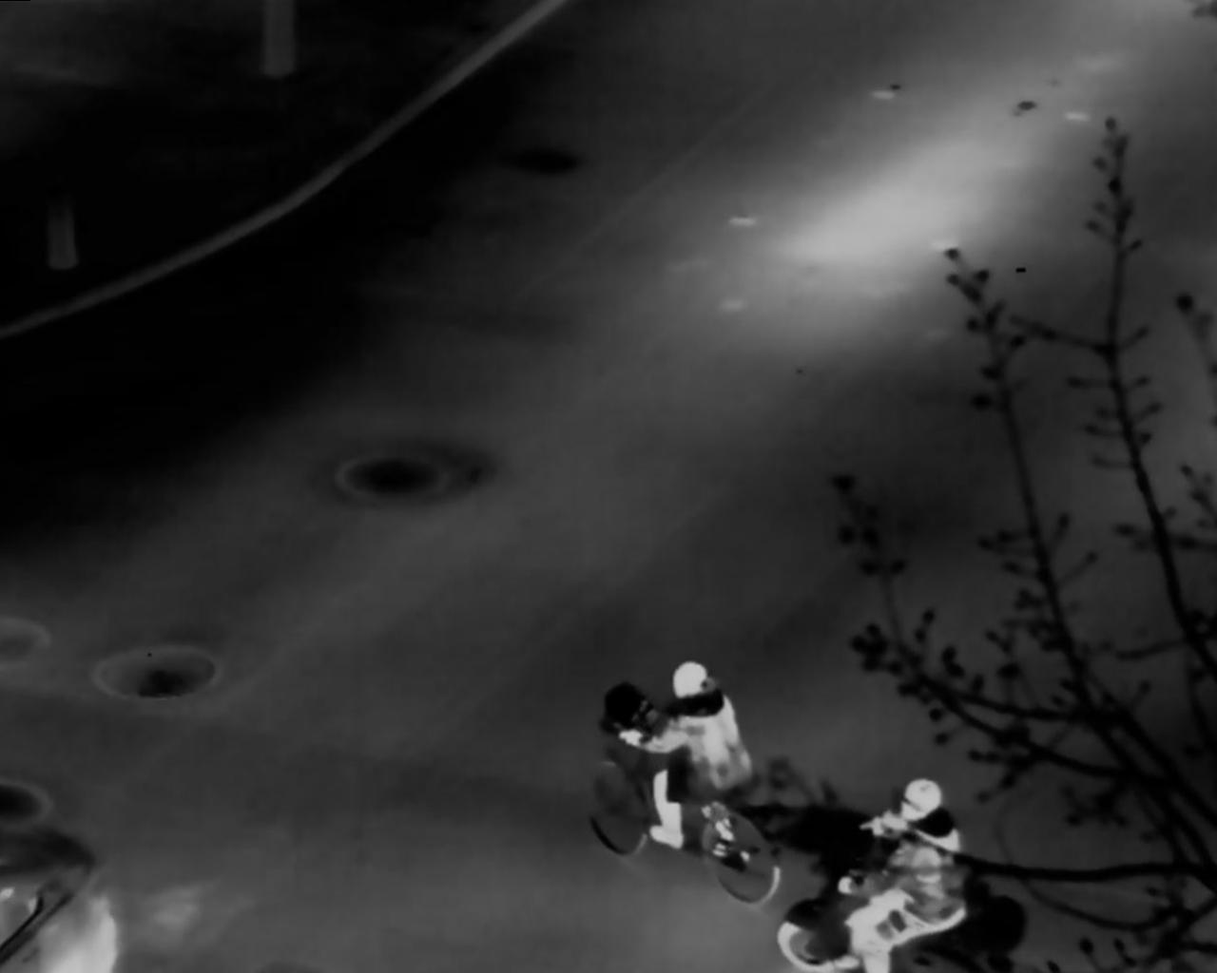person: (617, 659, 755, 850), (840, 775, 967, 973)
